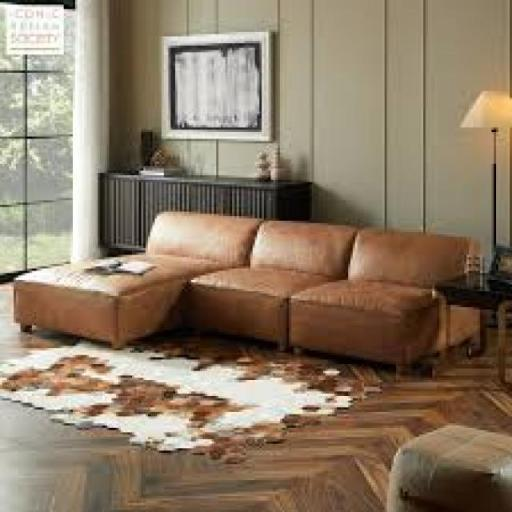sofa: (22, 188, 492, 408)
